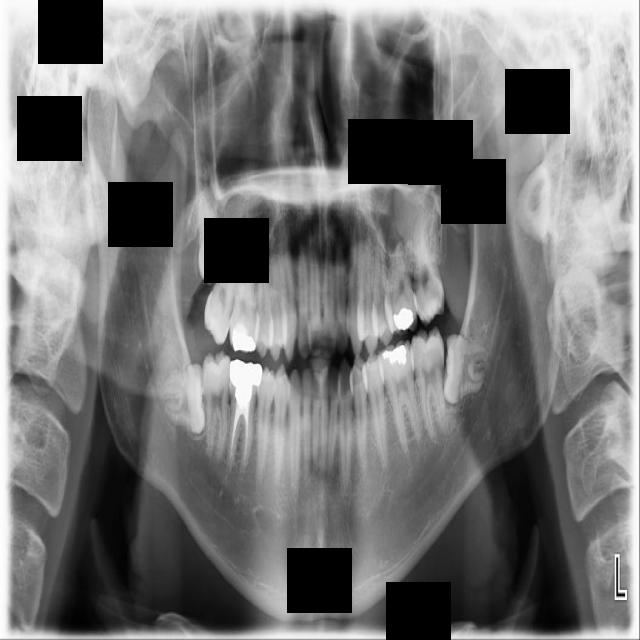3M ESPE Implant: (196, 182, 226, 285)
52: (373, 338, 422, 393), (223, 357, 264, 406), (383, 286, 421, 338), (229, 306, 260, 353)
73: (220, 395, 257, 473), (597, 538, 603, 547)
BioHorizons Implant: (406, 206, 446, 327)
Biomet 3i Implant: (438, 333, 492, 408)
Blue Sky Bio Implant: (409, 324, 448, 443)
Caries: (198, 226, 250, 347)
Implant: (202, 350, 232, 461)
Keystone Dental Implant: (158, 363, 206, 436)
